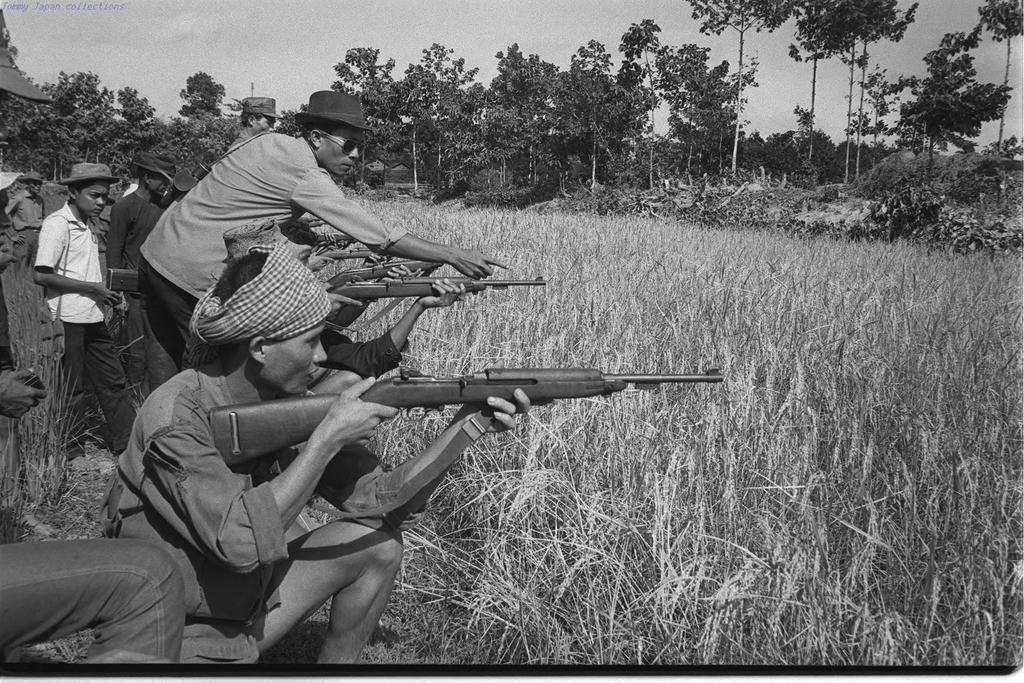Rifle: (208, 369, 722, 463), (319, 267, 548, 333)
